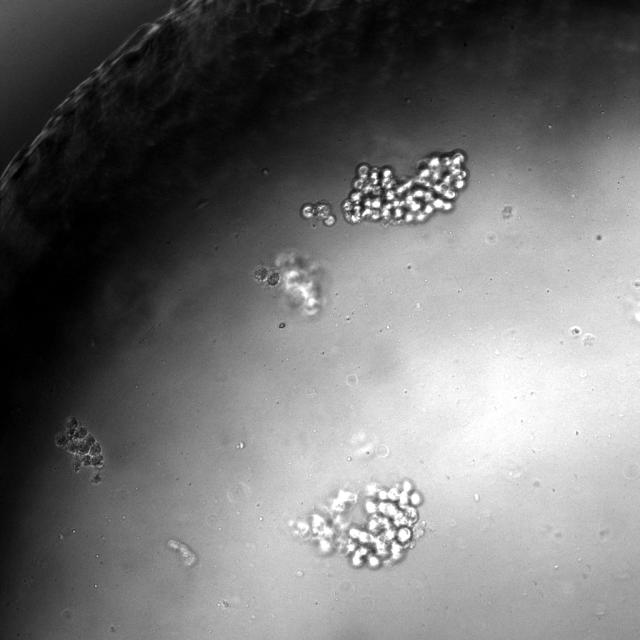organoid: (288, 479, 426, 570), (341, 150, 468, 224), (56, 416, 104, 483), (274, 250, 323, 315), (300, 200, 336, 225), (168, 539, 196, 567), (254, 266, 279, 286)
